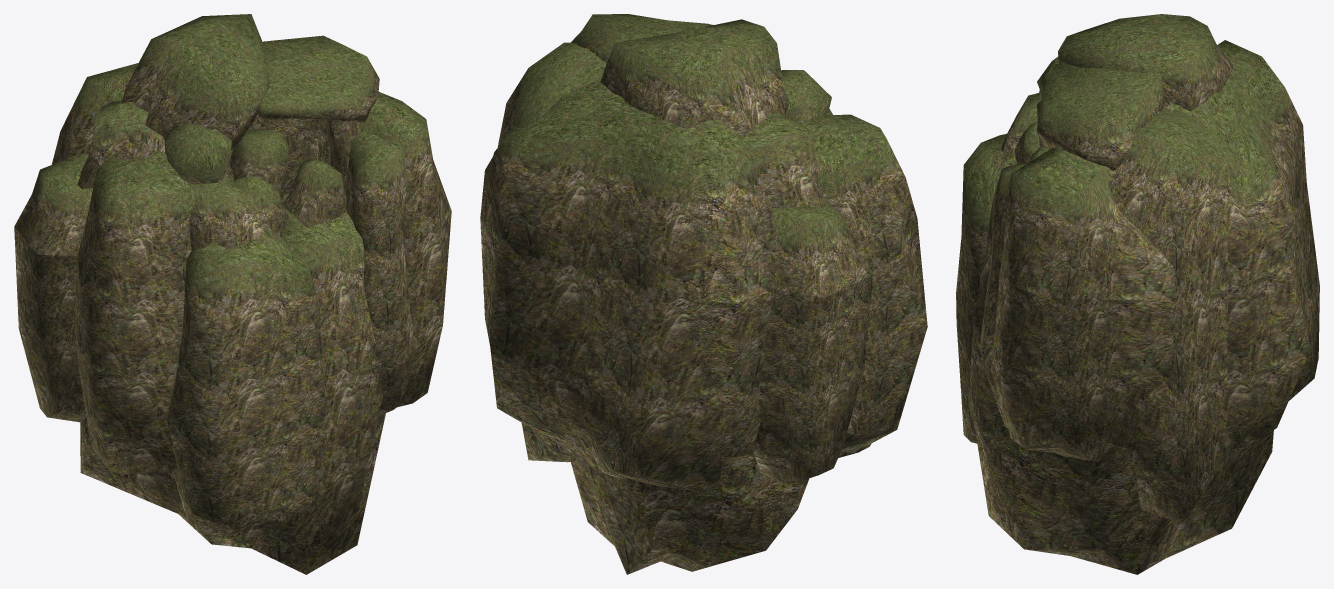
The model's file is poi_all_lair_rancor_dark_large_l0.fbx.
3 renders of one model, left to right at view 1: azimuth 30°, elevation 25°; view 2: azimuth 150°, elevation 25°; view 3: azimuth 270°, elevation 25°, orthographic. The views are drawn at different scales.
Parts seen in each view (by area): view 1: mesh_node; view 2: mesh_node; view 3: mesh_node.
Part boxes in pixels (x1,y1,x2,y2): mesh_node: (14, 14, 451, 574); mesh_node: (480, 14, 927, 574); mesh_node: (956, 14, 1319, 574).
Bounding box in the file's own units: 36.89 × 48.43 × 32.2.
